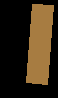parkingspot: (26, 4, 53, 84)
